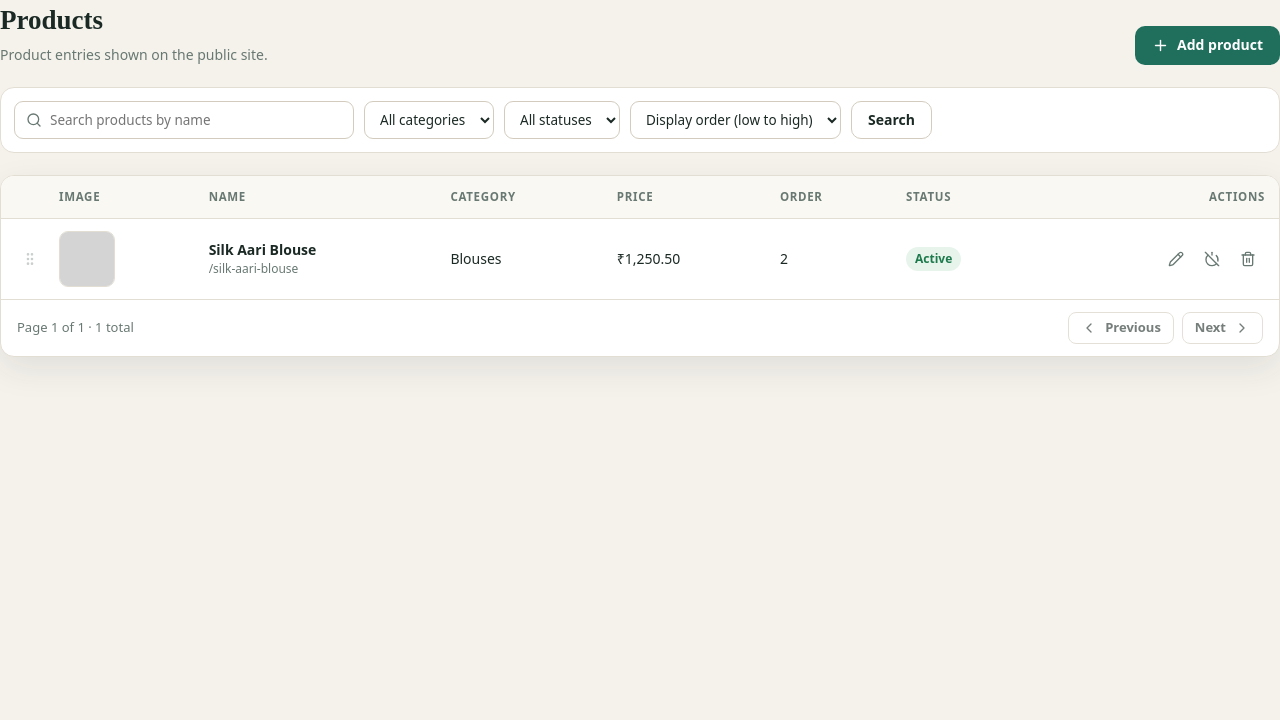
Test: catalogue list › deletes after confirmation
Check: the text "Silk Aari Blouse" is shown, box [209, 240, 316, 259]
Click the button named "Delete Silk Aari Blouse": (1248, 258) [1231, 242, 1265, 276]
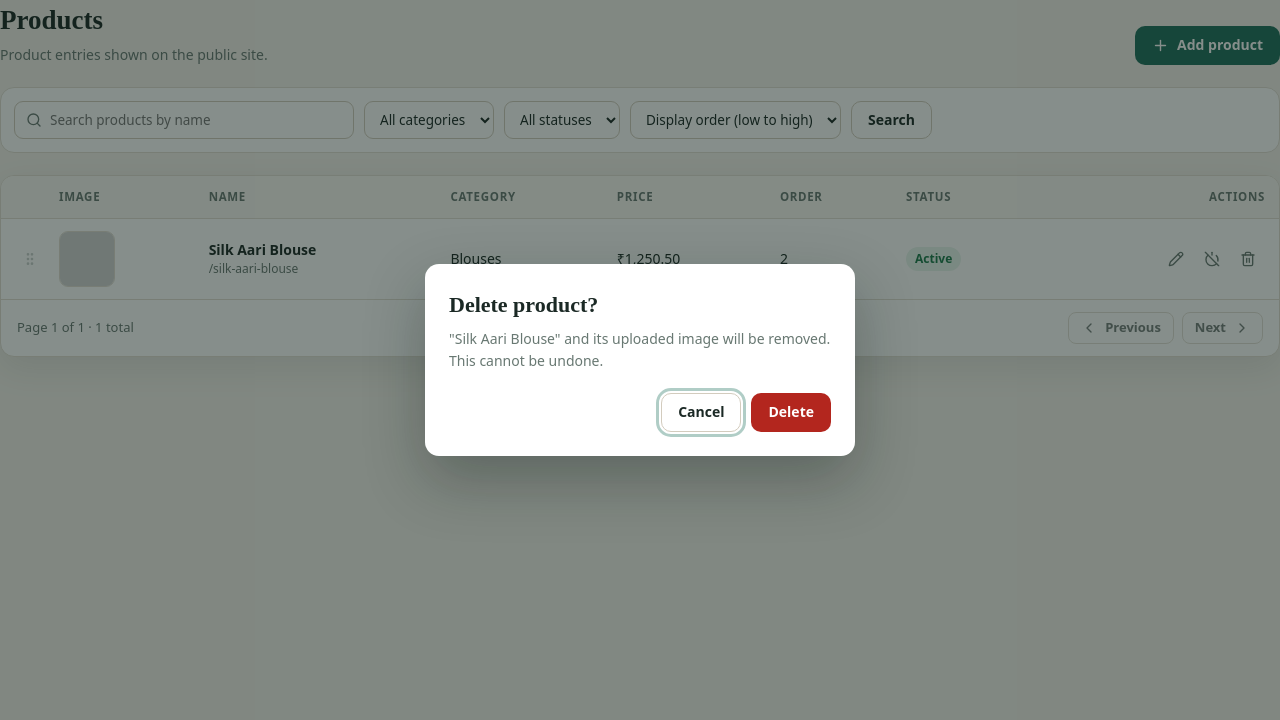
Check: the dialog shows "Delete product?", box [449, 292, 598, 317]
Click the button "Delete": (791, 413) [752, 393, 831, 432]
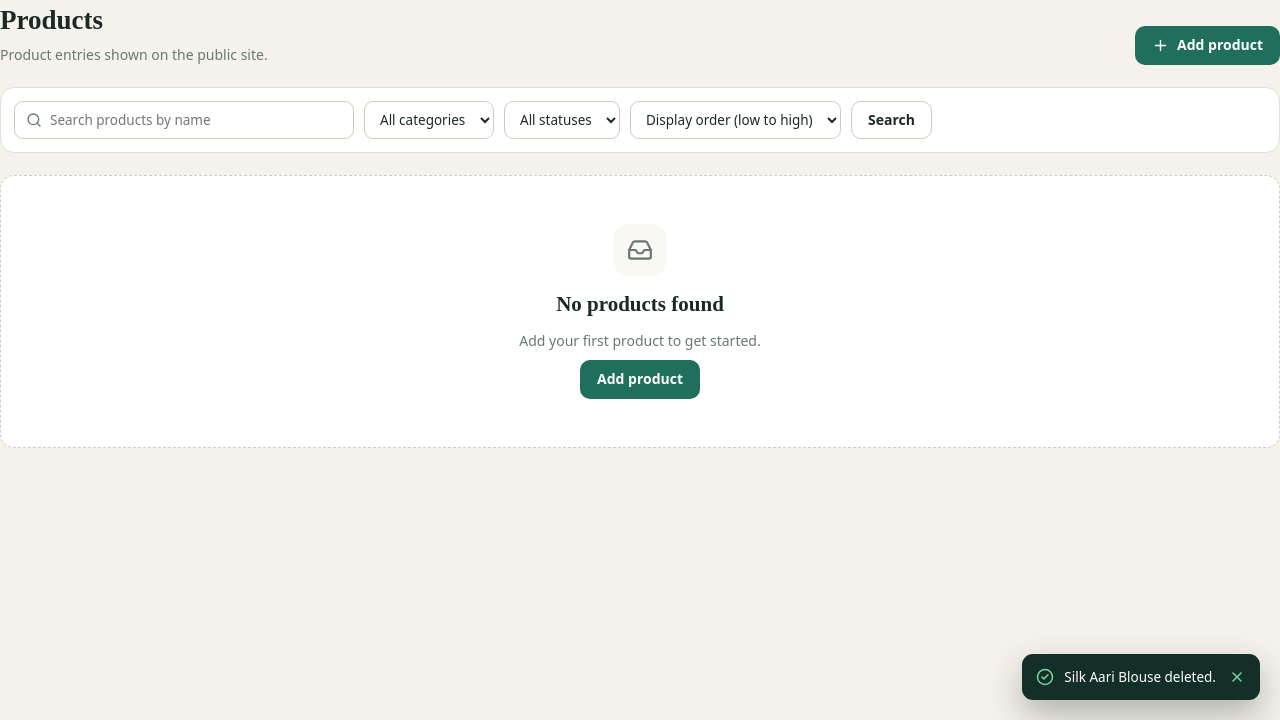
Check: the heading "No products found" is shown, box [556, 289, 724, 321]
